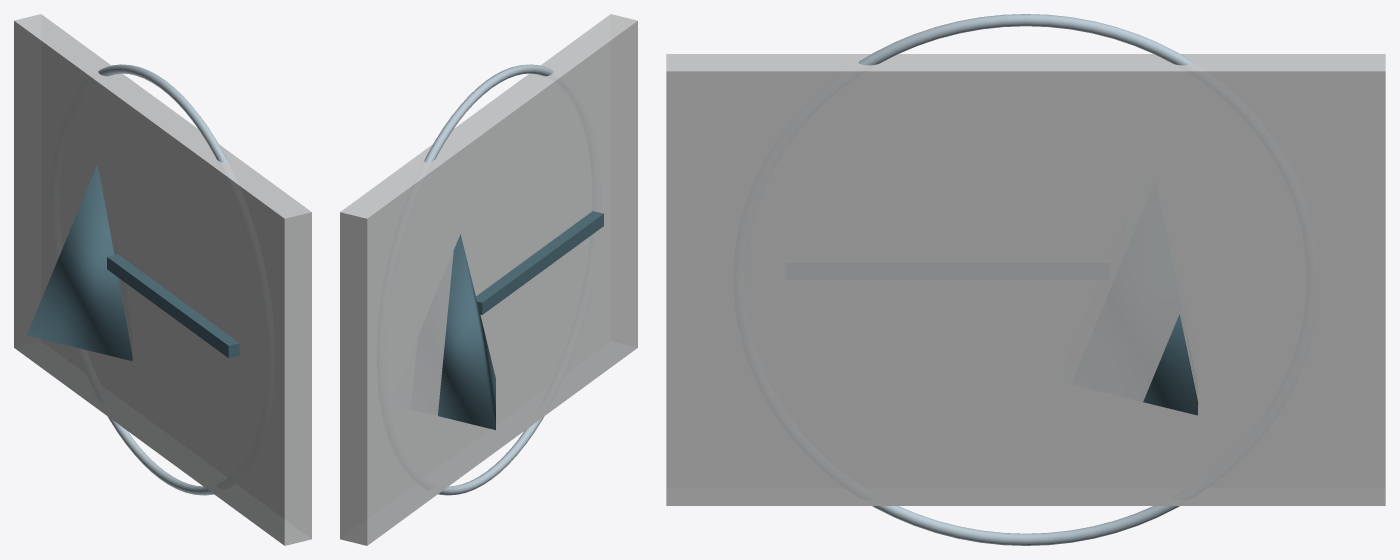
The model's file is object-screen.glb.
3 renders of one model, left to right at view 1: azimuth 30°, elevation 25°; view 2: azimuth 150°, elevation 25°; view 3: azimuth 270°, elevation 25°, orthographic. The views are drawn at different scales.
Parts seen in each view (by area): view 1: translucent object plate, object arrow, object stem, object rim; view 2: translucent object plate, object arrow, object stem, object rim; view 3: translucent object plate, object rim, object arrow.
Boxes of the visible parts, box(x1,y1,x2,y2) form: translucent object plate: box(14, 14, 311, 545); object arrow: box(26, 165, 132, 361); object stem: box(107, 254, 239, 358); object rim: box(98, 64, 227, 495); translucent object plate: box(340, 14, 637, 545); object arrow: box(438, 234, 495, 429); object stem: box(476, 211, 603, 314); object rim: box(424, 64, 553, 495); translucent object plate: box(666, 54, 1385, 505); object rim: box(858, 14, 1193, 545); object arrow: box(1143, 314, 1197, 415).
Size of the model in its own units: 0.3118 by 1.12 by 1.38.
